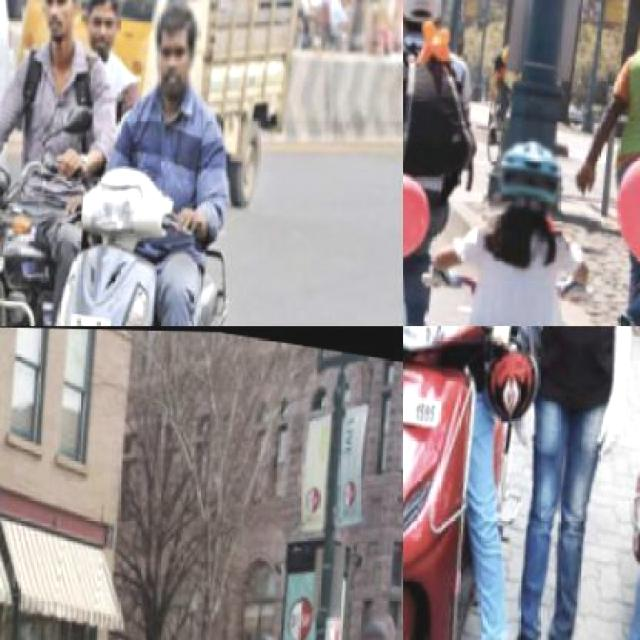With Helmet: (486, 127, 568, 221), (351, 604, 389, 638), (242, 623, 282, 639)
Without Helmet: (138, 0, 210, 100), (30, 0, 96, 48), (75, 0, 126, 55), (403, 0, 452, 43)
